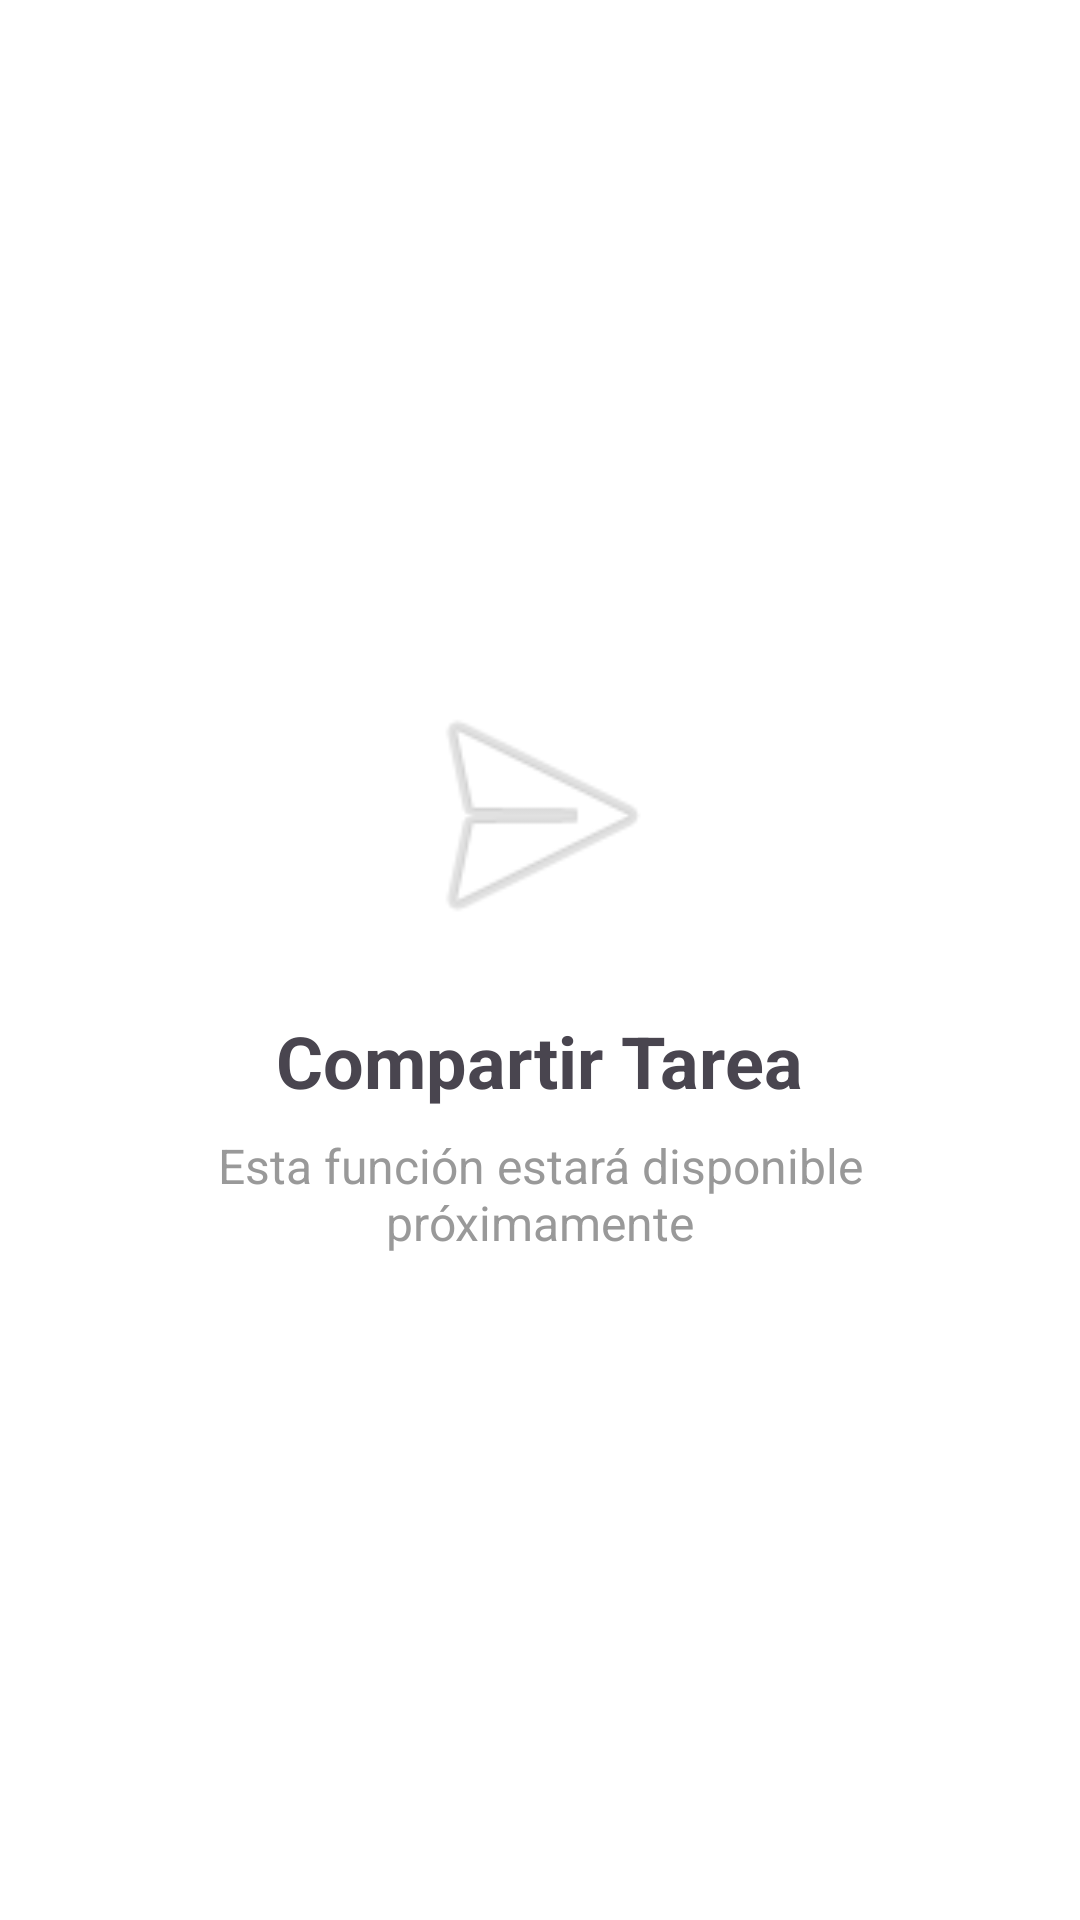

Where to tap for icons on this 1080x1920 app screen, as (x=x, y=y):
send: (x=543, y=815)
